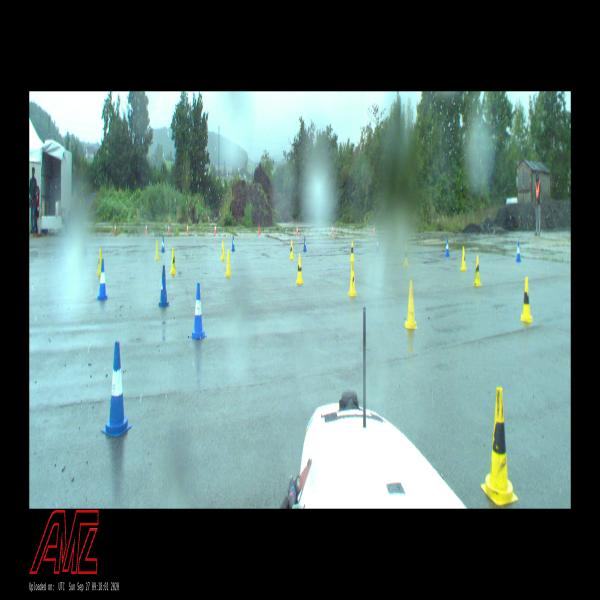blue_cone: (102, 341, 131, 436), (190, 283, 206, 339), (158, 265, 170, 307), (97, 259, 108, 300), (444, 238, 450, 257), (516, 242, 521, 262), (161, 236, 165, 252), (303, 236, 307, 251), (232, 235, 235, 252), (376, 238, 379, 252)
orange_cone: (186, 223, 189, 234), (258, 225, 261, 235), (214, 224, 217, 234), (145, 223, 147, 234), (114, 223, 116, 234), (296, 225, 298, 235), (332, 224, 334, 234), (373, 225, 375, 235), (168, 223, 170, 233)
yellow_cone: (481, 387, 518, 505), (405, 280, 417, 329), (520, 277, 533, 322), (348, 259, 358, 296), (473, 255, 482, 286), (296, 253, 304, 283), (169, 248, 177, 274), (225, 250, 232, 276), (460, 246, 467, 270), (97, 248, 102, 275), (154, 240, 160, 260), (403, 245, 408, 266), (289, 240, 294, 259), (350, 240, 354, 262), (221, 240, 225, 260)
